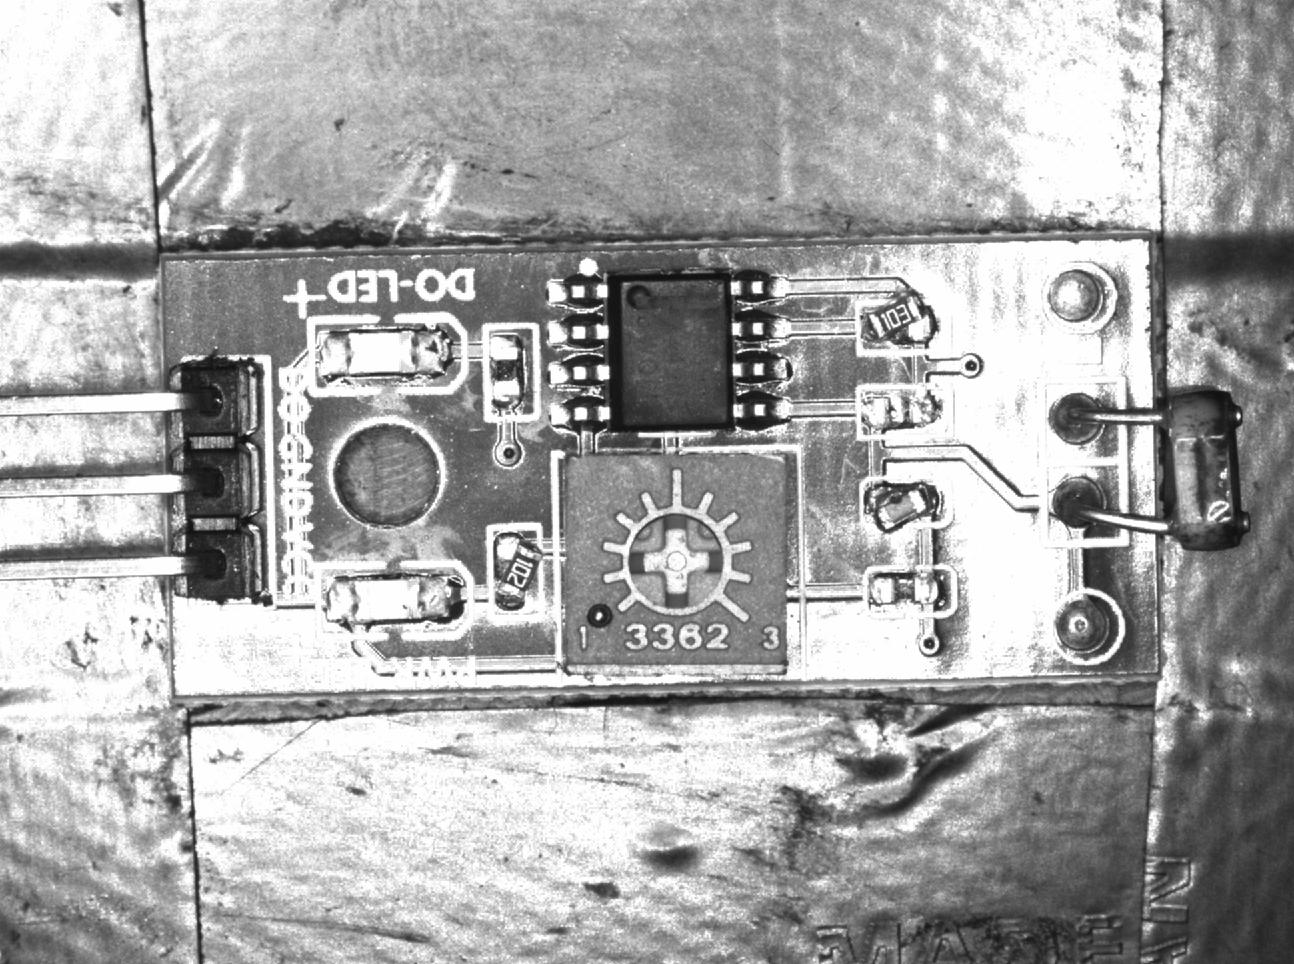lifted: (489, 525, 547, 621), (857, 294, 941, 355), (861, 477, 949, 533)
miss: (485, 324, 540, 420), (859, 384, 952, 437), (864, 563, 955, 615)
